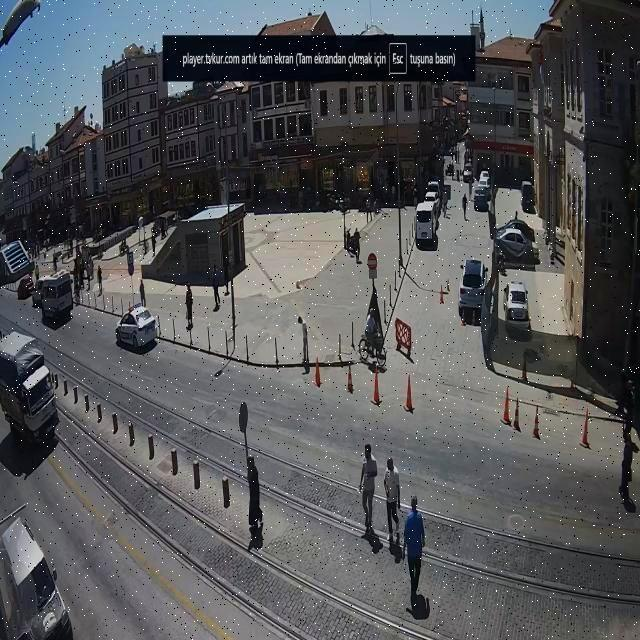Car: (116, 302, 160, 351), (458, 258, 488, 319)
Cycle: (357, 307, 387, 366)
Truck: (0, 326, 66, 456), (40, 270, 76, 320)
